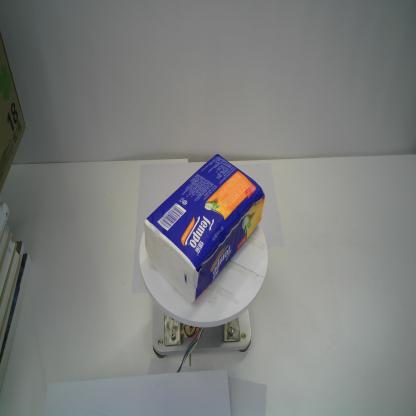Tissue: (144, 154, 265, 303)
